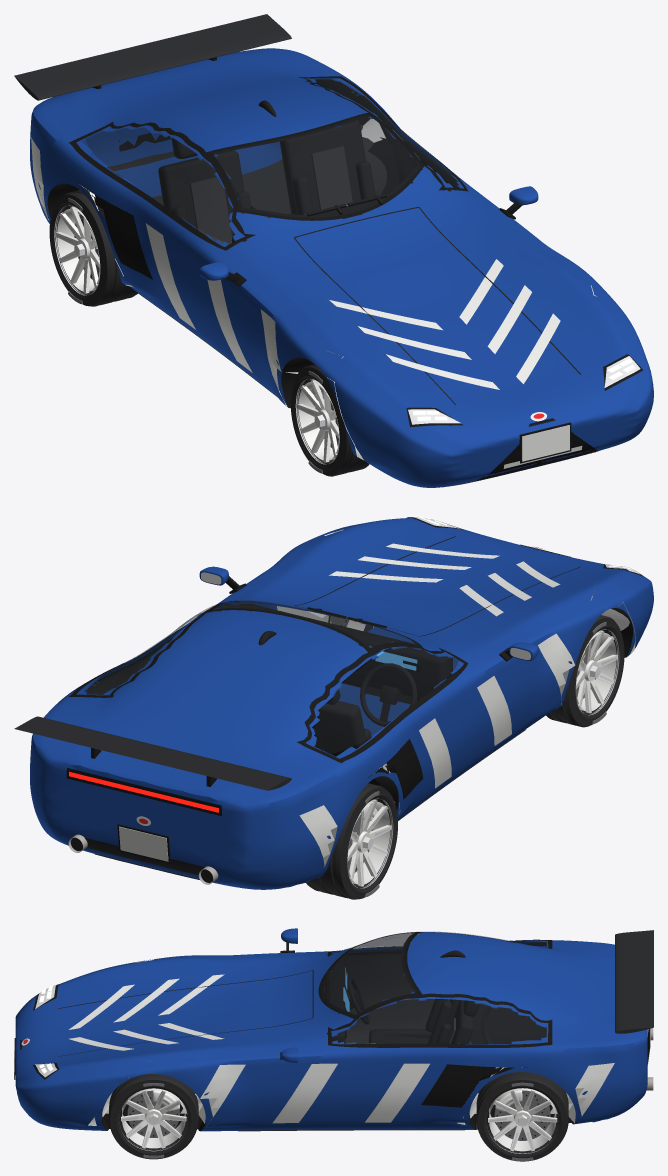
File: tsunami.glb
3 renders of one model, top to bottom at view 1: azimuth 30°, elevation 25°; view 2: azimuth 150°, elevation 25°; view 3: azimuth 270°, elevation 25°, orthographic. The views are drawn at different scales.
Parts seen in each view (by area): view 1: Body, Wheel_RR, Wheel_FR; view 2: Body, Wheel_RR, Wheel_FR; view 3: Body, Wheel_RL, Wheel_FL.
Part boxes in pixels (<box>): Body: <box>14,14,653,487</box>; Wheel_RR: <box>49,190,138,306</box>; Wheel_FR: <box>290,364,369,476</box>; Body: <box>14,516,653,889</box>; Wheel_RR: <box>306,783,397,899</box>; Wheel_FR: <box>546,615,624,727</box>; Body: <box>14,928,653,1131</box>; Wheel_RL: <box>476,1072,568,1161</box>; Wheel_FL: <box>109,1074,198,1159</box>.
Bounding box in the file's own units: 2.31 × 1.31 × 4.86.
